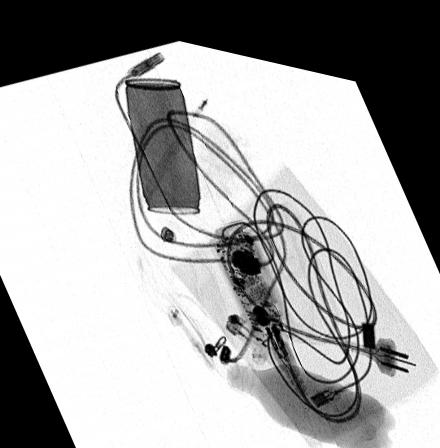Lighter: (224, 302, 291, 362)
